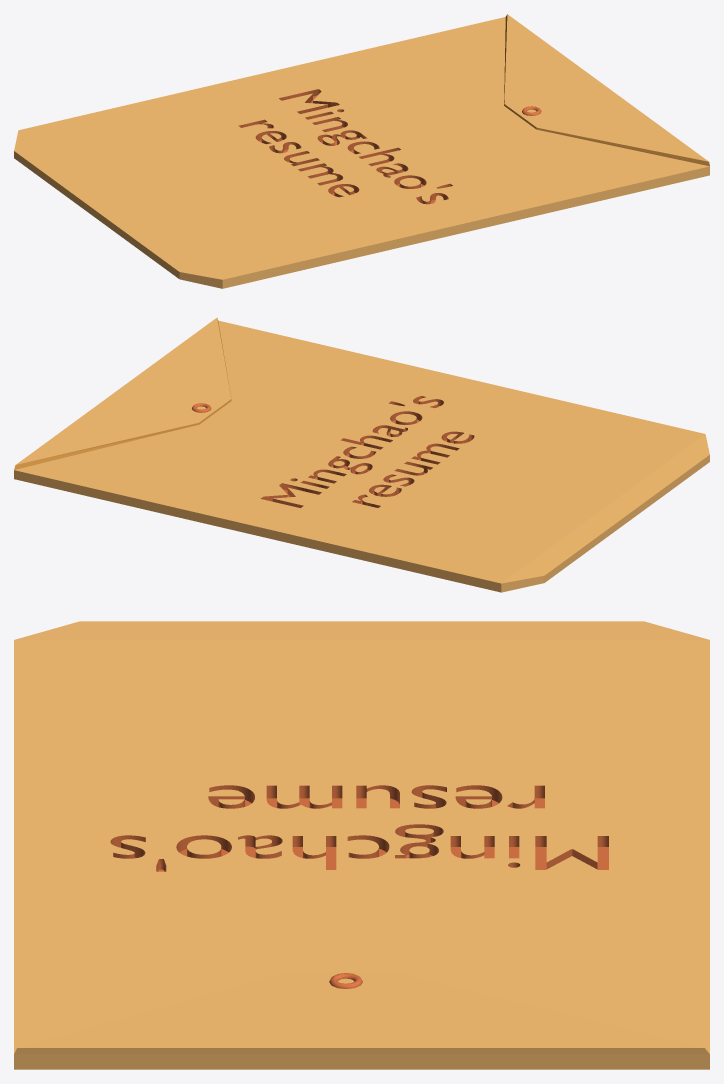
The model's file is resume.glb.
3 renders of one model, top to bottom at view 1: azimuth 30°, elevation 25°; view 2: azimuth 150°, elevation 25°; view 3: azimuth 270°, elevation 25°, orthographic. The views are drawn at different scales.
Visible parts, largest first — view 1: Node; view 2: Node; view 3: Node.
Boxes of the visible parts, x1=… form: Node: x1=14, y1=14, x2=709, y2=288; Node: x1=14, y1=317, x2=709, y2=592; Node: x1=14, y1=621, x2=709, y2=1069.
Bounding box in the file's own units: 2.37 × 0.0643 × 1.64.
